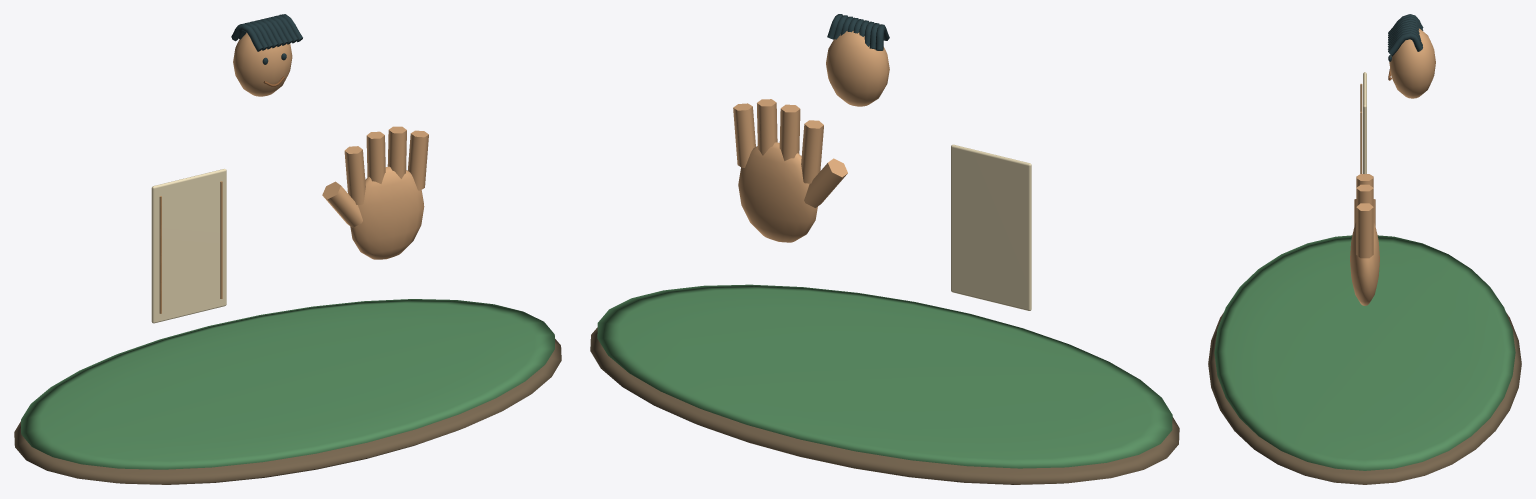
File: complete-third-skin-surfaces.glb
The picture shows the model from 3 angles, left to right: view 1: azimuth 30°, elevation 25°; view 2: azimuth 150°, elevation 25°; view 3: azimuth 270°, elevation 25°; orthographic projection. The views are drawn at different scales.
Visible parts, largest first — view 1: complete-third-skin-surfaces_surface_01, complete-third-skin-surfaces_surface_04, complete-third-skin-surfaces_surface_02, complete-third-skin-surfaces_surface_00, complete-third-skin-surfaces_surface_05, complete-third-skin-surfaces_surface_03; view 2: complete-third-skin-surfaces_surface_01, complete-third-skin-surfaces_surface_04, complete-third-skin-surfaces_surface_02, complete-third-skin-surfaces_surface_00, complete-third-skin-surfaces_surface_05; view 3: complete-third-skin-surfaces_surface_01, complete-third-skin-surfaces_surface_00, complete-third-skin-surfaces_surface_04, complete-third-skin-surfaces_surface_05, complete-third-skin-surfaces_surface_02.
Boxes of the visible parts, <box> form: complete-third-skin-surfaces_surface_01: <box>21,299,554,469</box>; complete-third-skin-surfaces_surface_04: <box>233,32,428,259</box>; complete-third-skin-surfaces_surface_02: <box>151,169,226,323</box>; complete-third-skin-surfaces_surface_00: <box>14,339,561,484</box>; complete-third-skin-surfaces_surface_05: <box>231,14,302,64</box>; complete-third-skin-surfaces_surface_03: <box>159,181,222,313</box>; complete-third-skin-surfaces_surface_01: <box>597,284,1172,468</box>; complete-third-skin-surfaces_surface_04: <box>733,31,889,242</box>; complete-third-skin-surfaces_surface_02: <box>951,144,1031,310</box>; complete-third-skin-surfaces_surface_00: <box>590,327,1179,484</box>; complete-third-skin-surfaces_surface_05: <box>827,14,889,50</box>; complete-third-skin-surfaces_surface_01: <box>1214,235,1515,470</box>; complete-third-skin-surfaces_surface_00: <box>1208,312,1521,484</box>; complete-third-skin-surfaces_surface_04: <box>1350,28,1435,305</box>; complete-third-skin-surfaces_surface_05: <box>1388,14,1423,61</box>; complete-third-skin-surfaces_surface_02: <box>1363,72,1366,173</box>.
Bounding box in the file's own units: 4.56 × 3.12 × 2.5.
